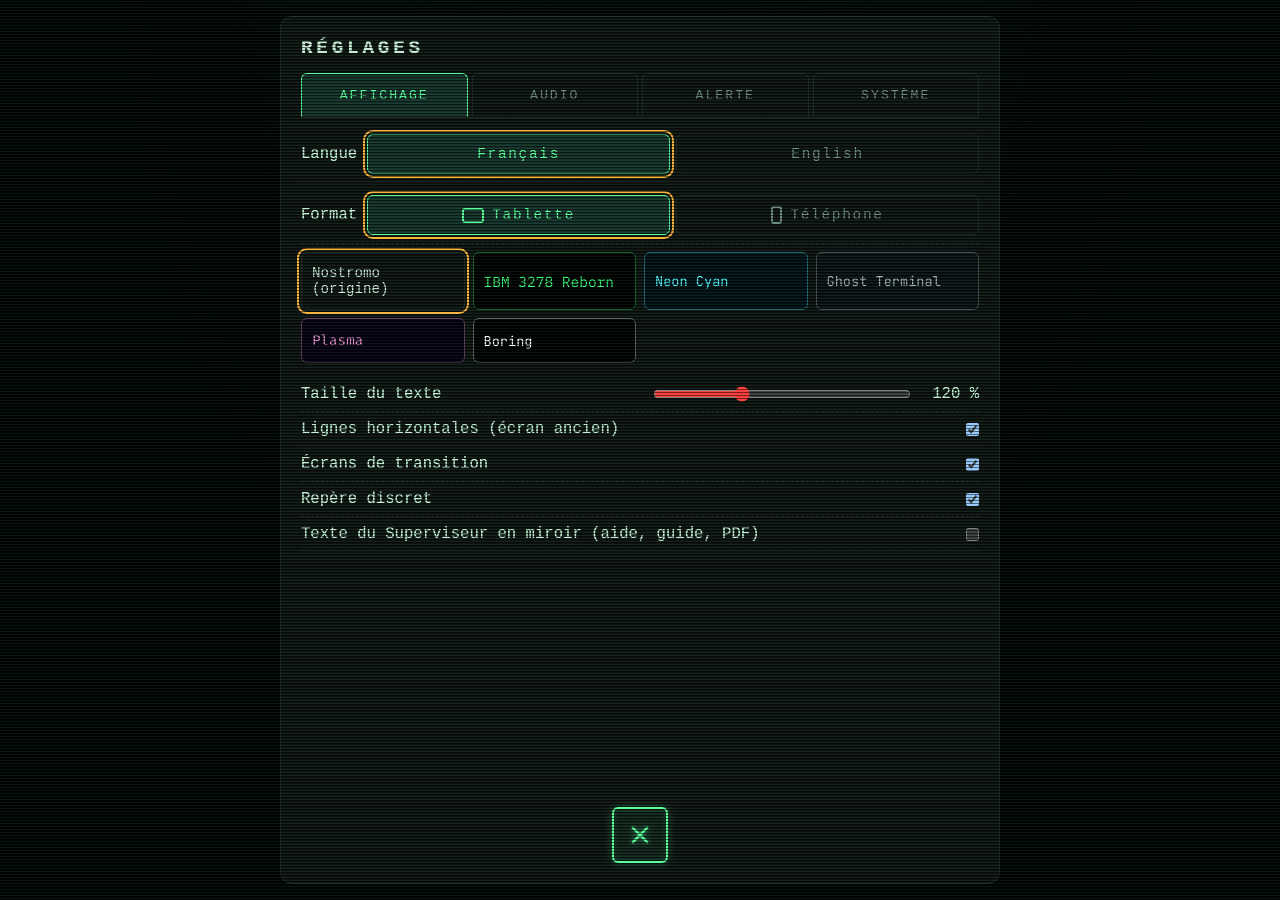
Test case: quatre onglets, un seul panneau visible à la fois ; les autres restent en page, cachés
Click the tab "AUDIO" at (555, 95), box [472,73,638,117]
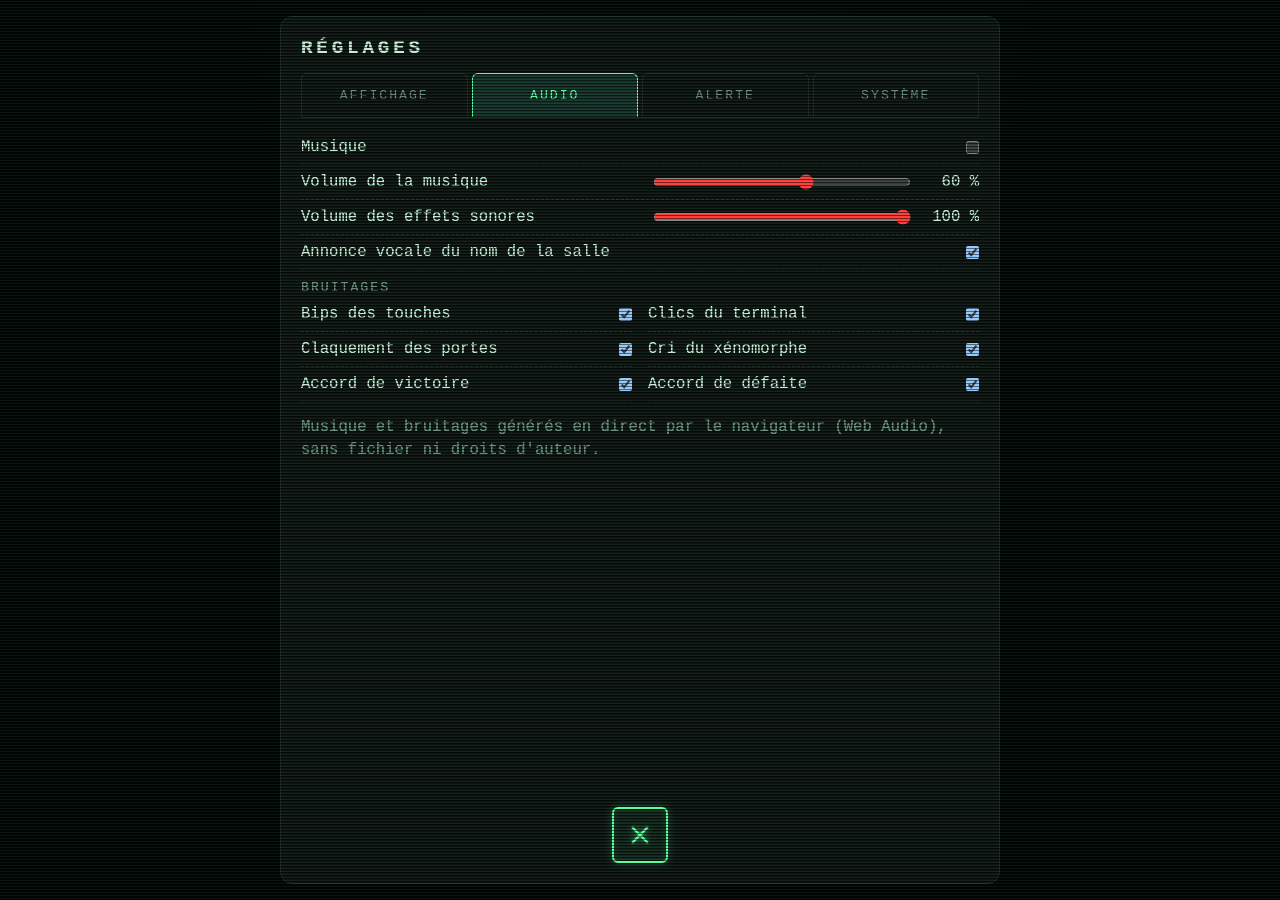
Click the tab "SYSTÈME" at (896, 95), box [812,73,979,117]
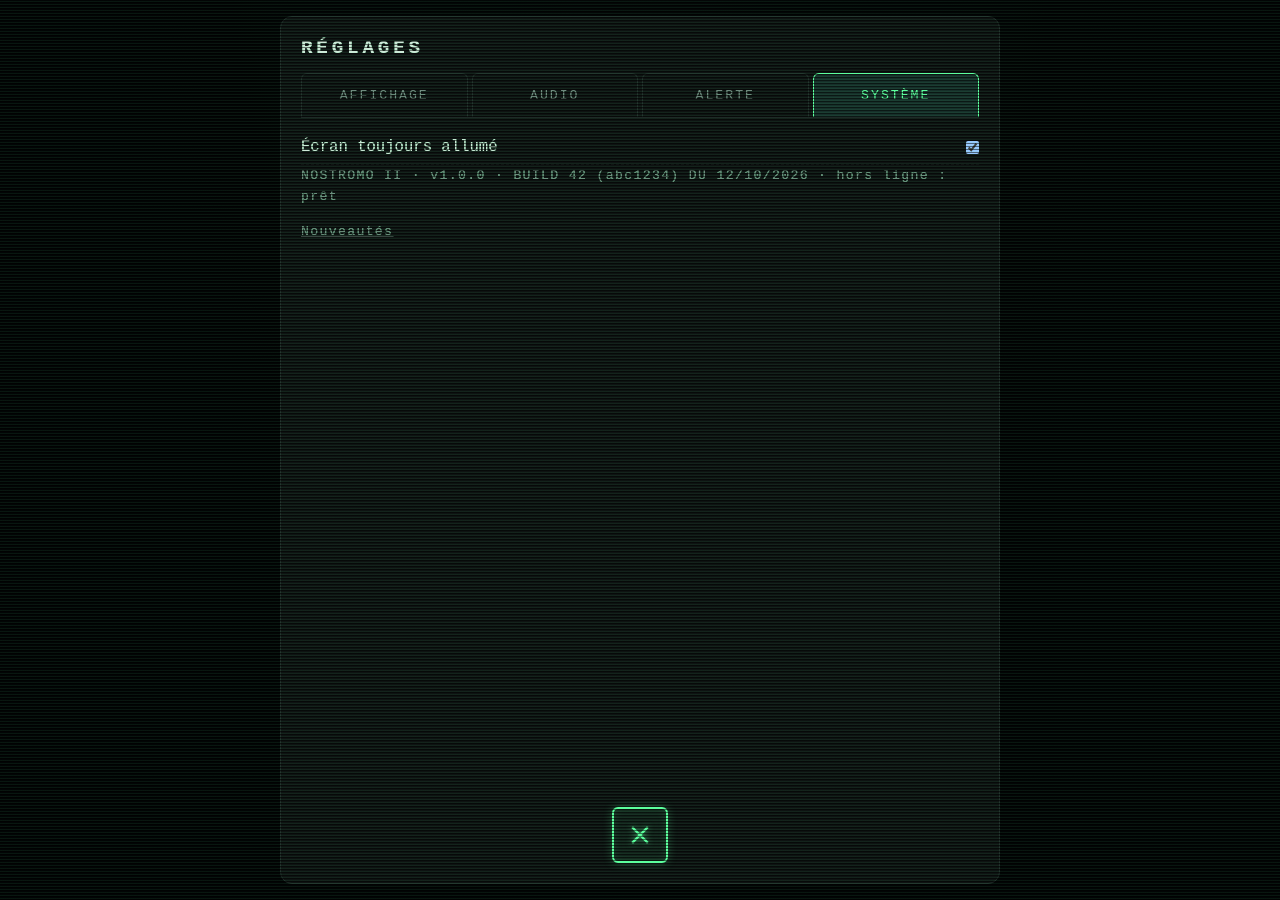
expect the text "BUILD" is shown: met, box [486,168,569,183]
